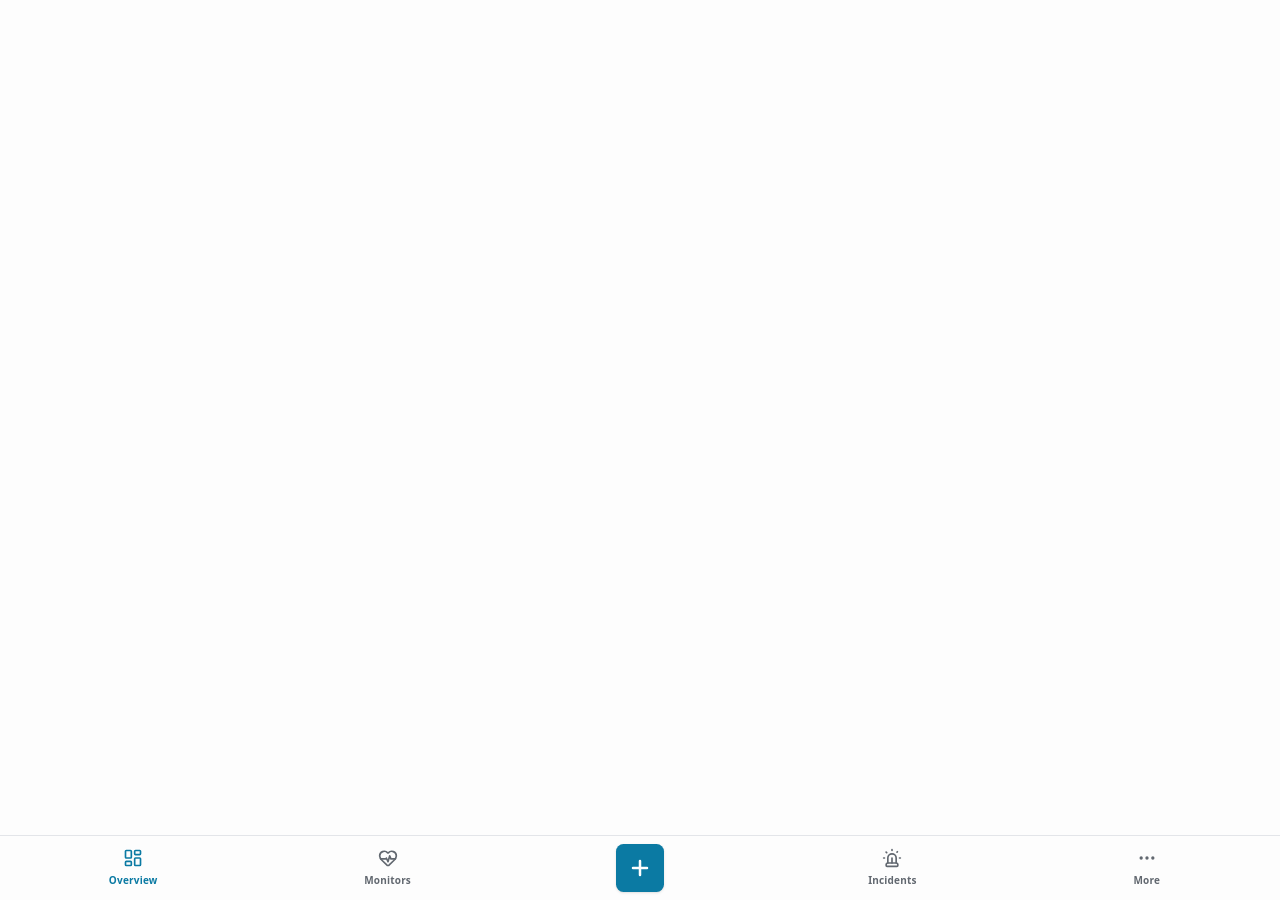
Test: MobileTabBar › reaches every remaining customer destination through More
Step 1. Click the button with aria-label "More destinations" → (1147, 868), box [1022,836,1272,899]
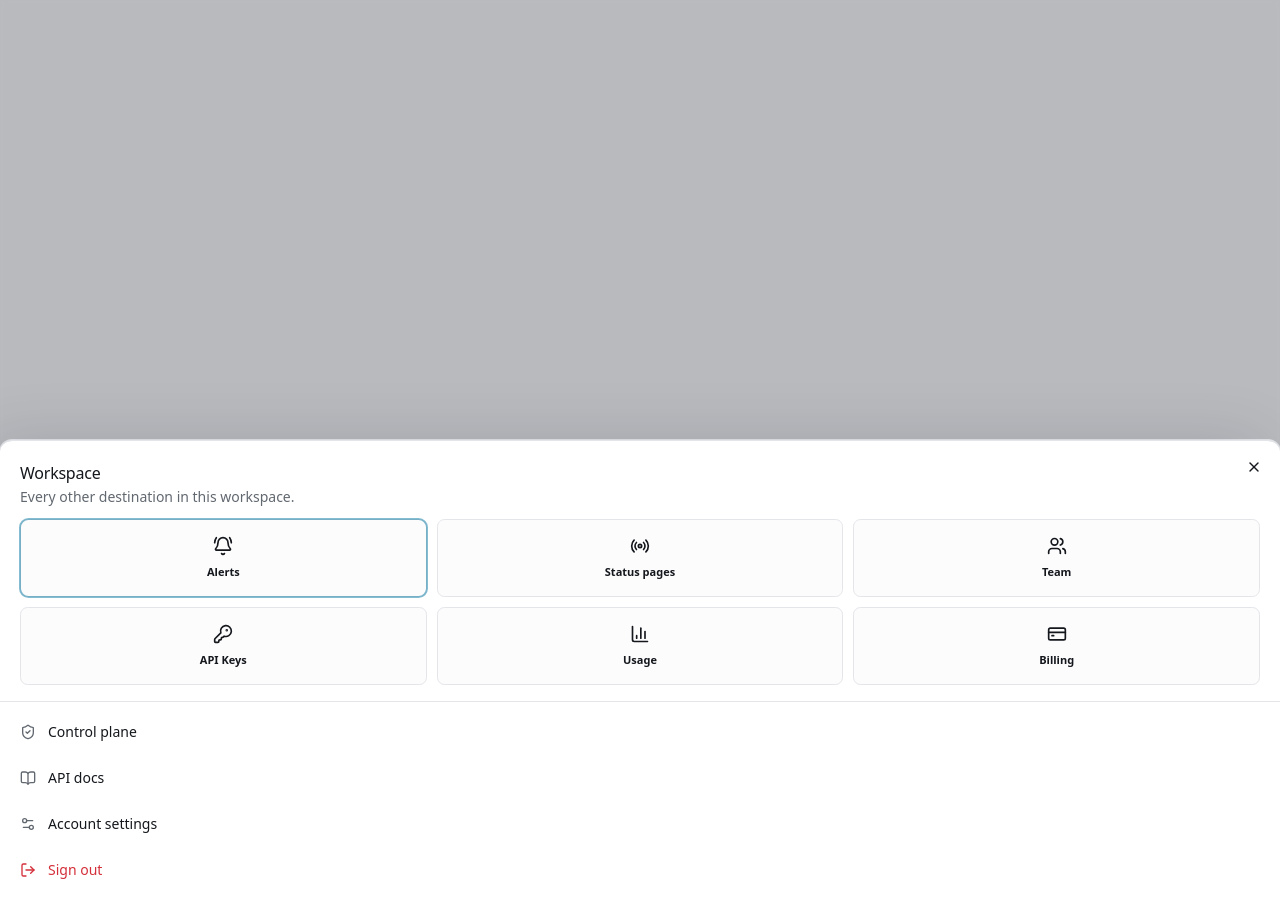
Result: the link "Alerts" is shown at [20,519,427,597]
Result: the link "Team" is shown at [853,519,1260,597]
Result: the link "Usage" is shown at [437,607,843,685]
